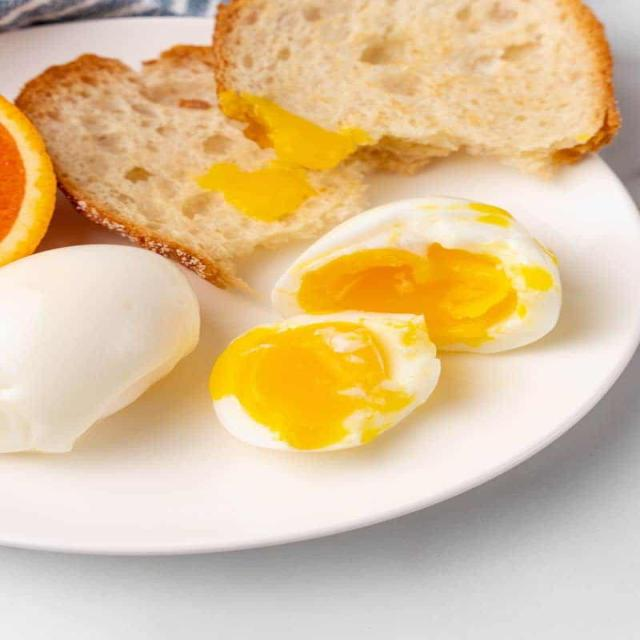boiled egg: (203, 192, 571, 454)
